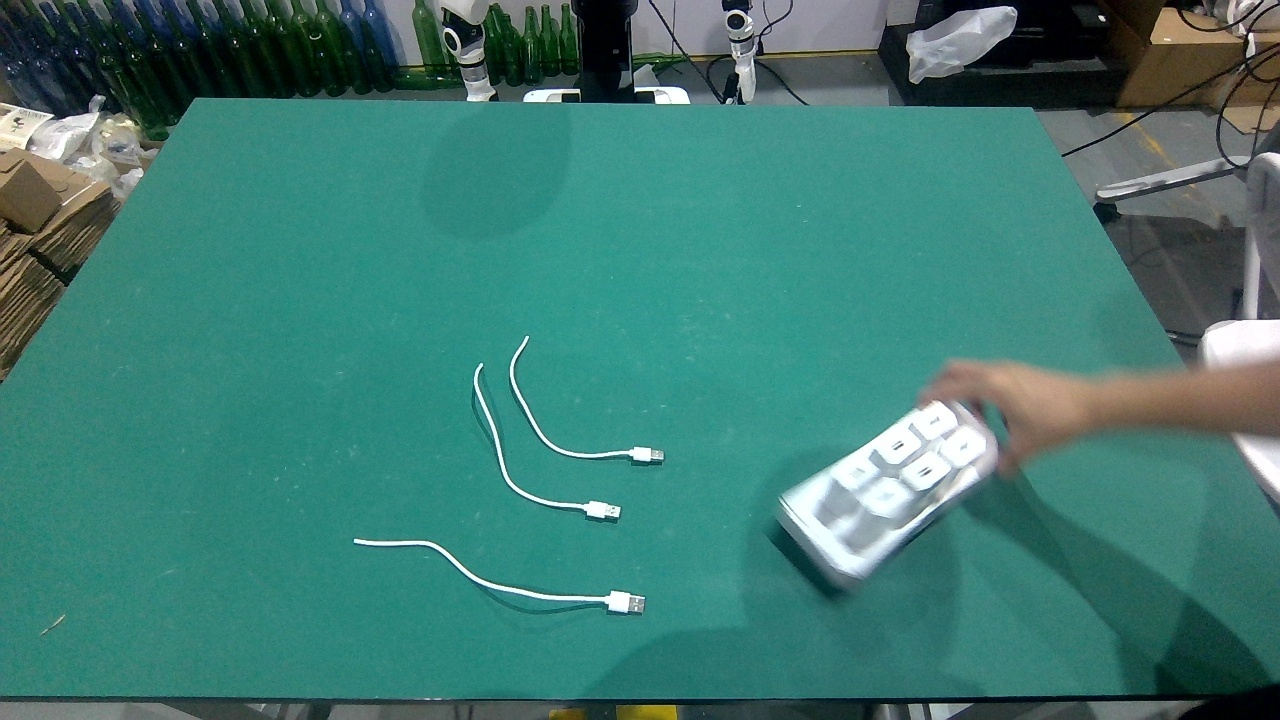usb_a_plug: (592, 588, 646, 615), (575, 498, 622, 521), (620, 446, 665, 463)
